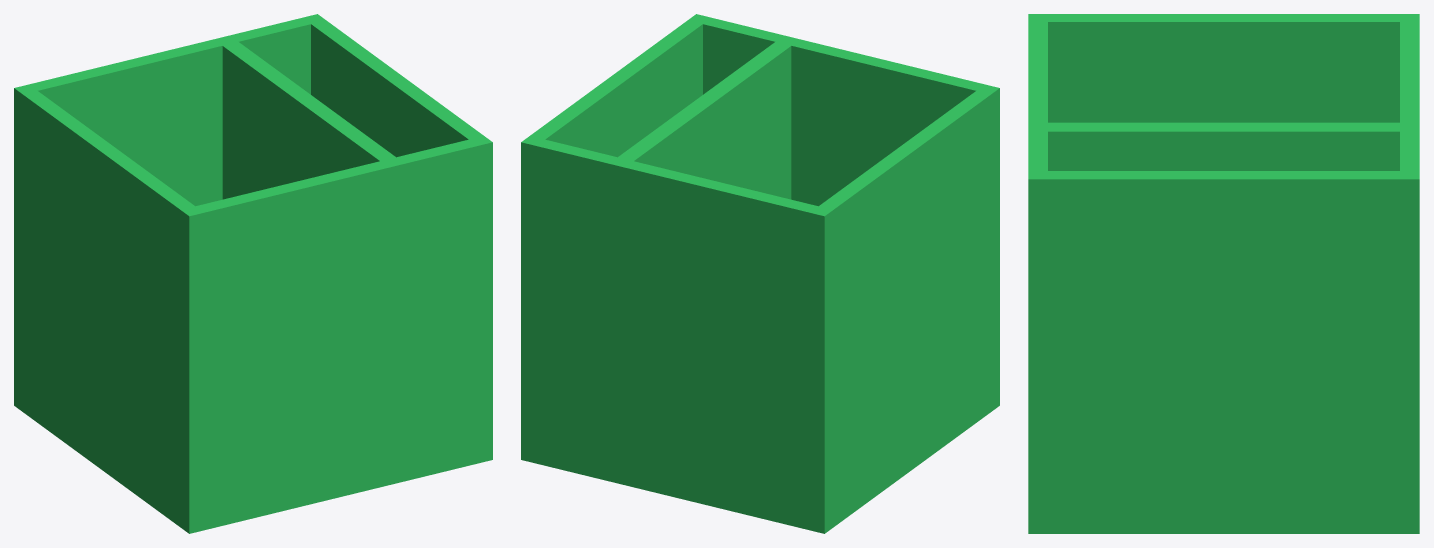
The model's file is PencilHolder_2.fbx.
3 views of the same model, side by side, from view 1: azimuth 30°, elevation 25°; view 2: azimuth 150°, elevation 25°; view 3: azimuth 270°, elevation 25° (orthographic). The views are drawn at different scales.
Visible parts, largest first — view 1: Cube; view 2: Cube; view 3: Cube.
Part boxes in pixels (box(x1,y1,x2,y2)): Cube: box(14, 14, 492, 533); Cube: box(521, 14, 999, 533); Cube: box(1028, 14, 1419, 533).
Bounding box in the file's own units: 0.4772 × 0.4772 × 0.4772.
